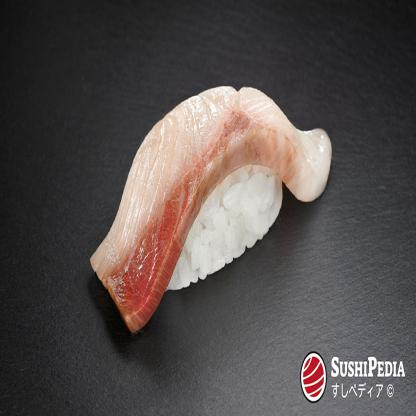hamachi: (82, 81, 342, 353)
